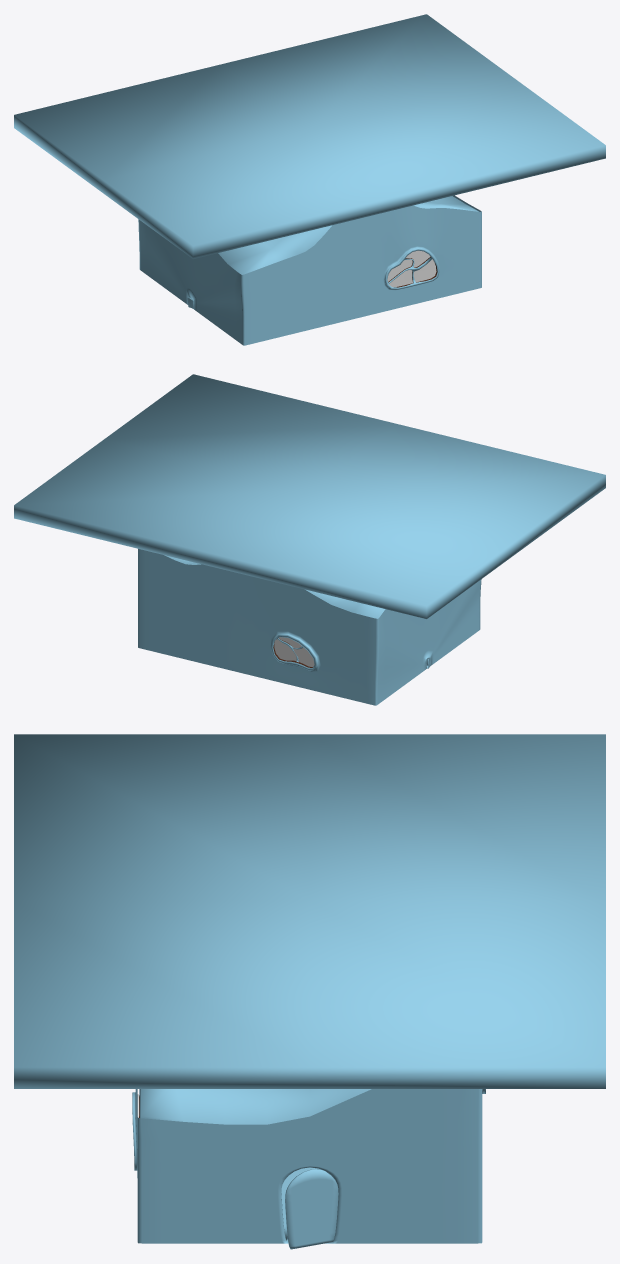
File: Alicia_Kitchen_NoAnim_v6.fbx
3 views of the same model, one above another, from view 1: azimuth 30°, elevation 25°; view 2: azimuth 150°, elevation 25°; view 3: azimuth 270°, elevation 25° (orthographic). The views are drawn at different scales.
Parts seen in each view (by area): view 1: House; view 2: House; view 3: House, BigDoor.
Boxes of the visible parts, <box> form: House: <box>14,14,605,345</box>; House: <box>14,374,605,705</box>; House: <box>14,734,605,1243</box>; BigDoor: <box>285,1169,338,1249</box>.
Bounding box in the file's own units: 24.89 × 11.4 × 33.11.
